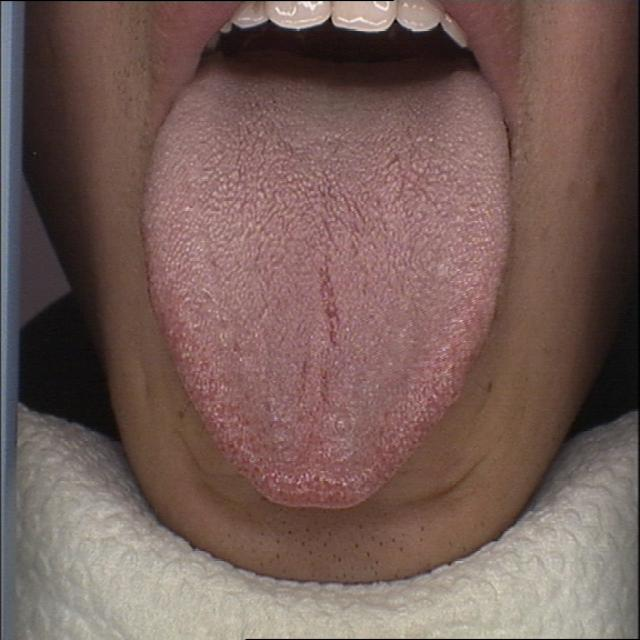tongue: (136, 61, 520, 519)
